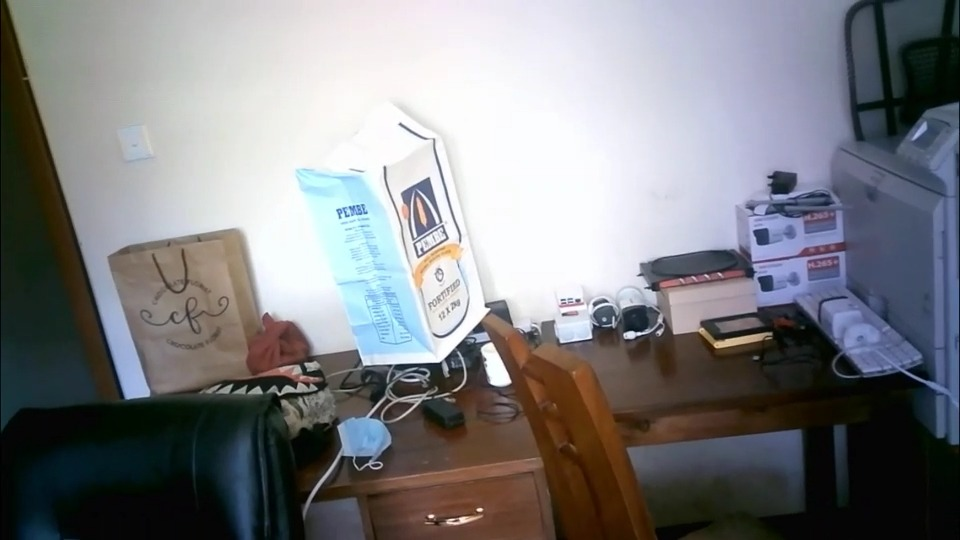wheat_flour_blue_label: (292, 112, 487, 364)
